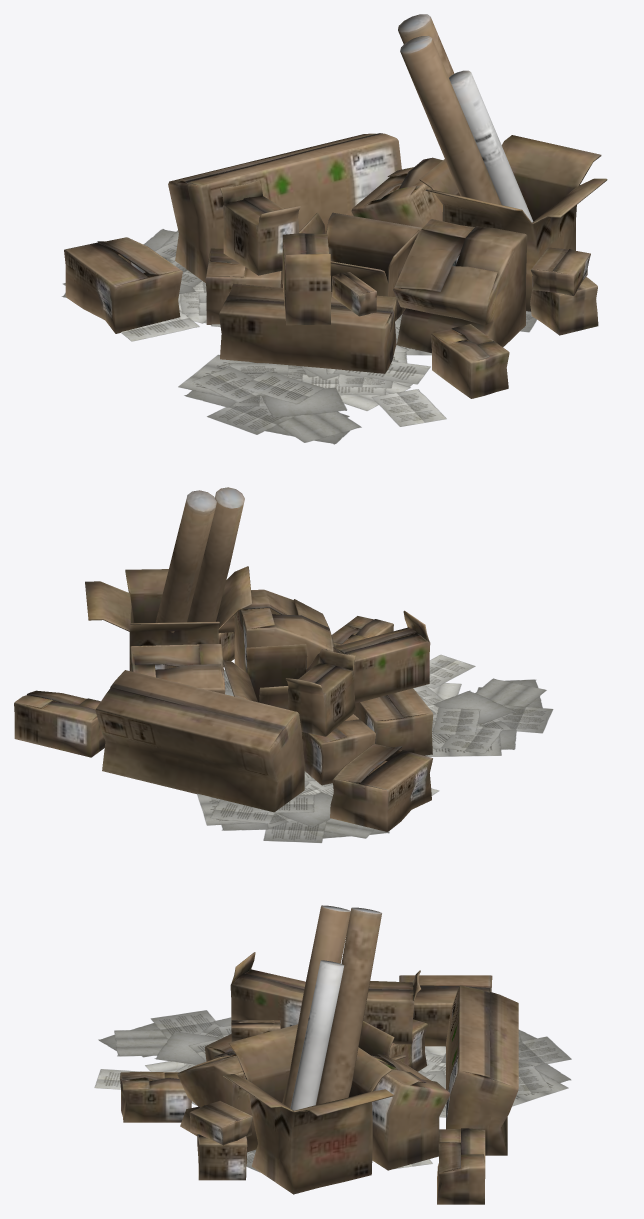
The model's file is post_boxes.glb.
The picture shows the model from 3 angles, top to bottom: view 1: azimuth 30°, elevation 25°; view 2: azimuth 150°, elevation 25°; view 3: azimuth 270°, elevation 25°; orthographic projection. The views are drawn at different scales.
Visible parts, largest first — view 1: post_boxes; view 2: post_boxes; view 3: post_boxes.
Boxes of the visible parts, x1,y1,x2,y2 form: post_boxes: [62, 14, 607, 444]; post_boxes: [14, 487, 553, 842]; post_boxes: [94, 905, 571, 1204].
Size of the model in its own units: 1.22 by 0.5918 by 1.4.
2 materials, 2 textured.
